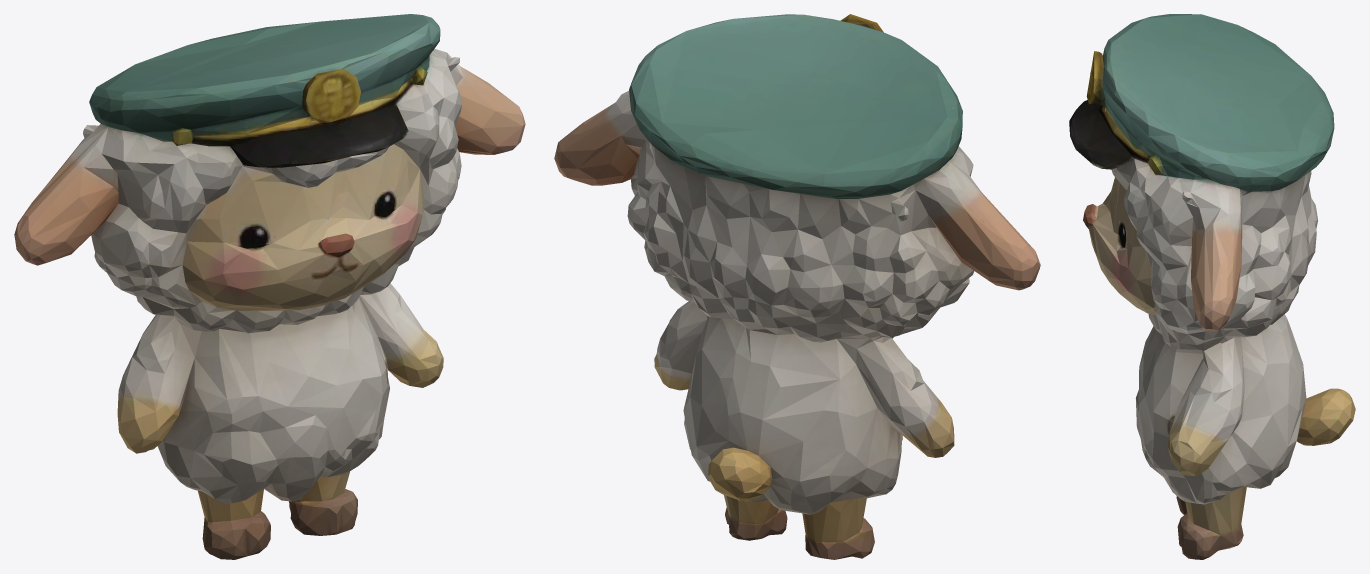
Rendered from choo.glb.
3 views of the same model, side by side, from view 1: azimuth 30°, elevation 25°; view 2: azimuth 150°, elevation 25°; view 3: azimuth 270°, elevation 25° (orthographic). The views are drawn at different scales.
Visible parts, largest first — view 1: geometry_0; view 2: geometry_0; view 3: geometry_0.
Boxes of the visible parts, x1,y1,x2,y2 form: geometry_0: (14, 14, 525, 559); geometry_0: (554, 14, 1040, 559); geometry_0: (1069, 14, 1355, 559).
Bounding box in the file's own units: 0.9983 × 0.9695 × 0.5343.
Materials: 1 (1 with a texture image).
